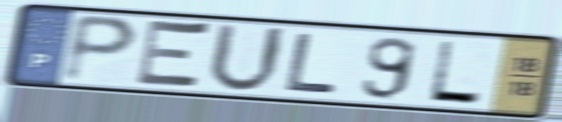9: (357, 35, 417, 101)
E: (131, 16, 216, 94)
L: (425, 38, 485, 107), (283, 30, 342, 95)
P: (57, 12, 142, 86)
U: (203, 20, 289, 96)
